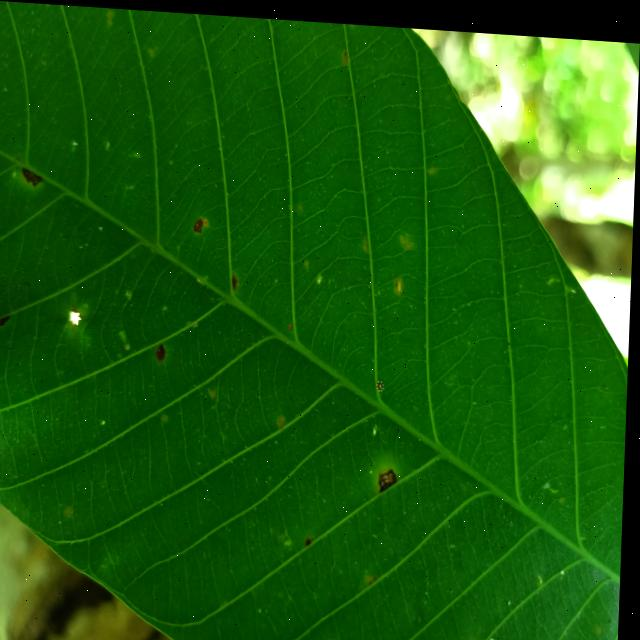Colletotrichum: (159, 341, 168, 358), (195, 215, 205, 229), (331, 635, 344, 640)
